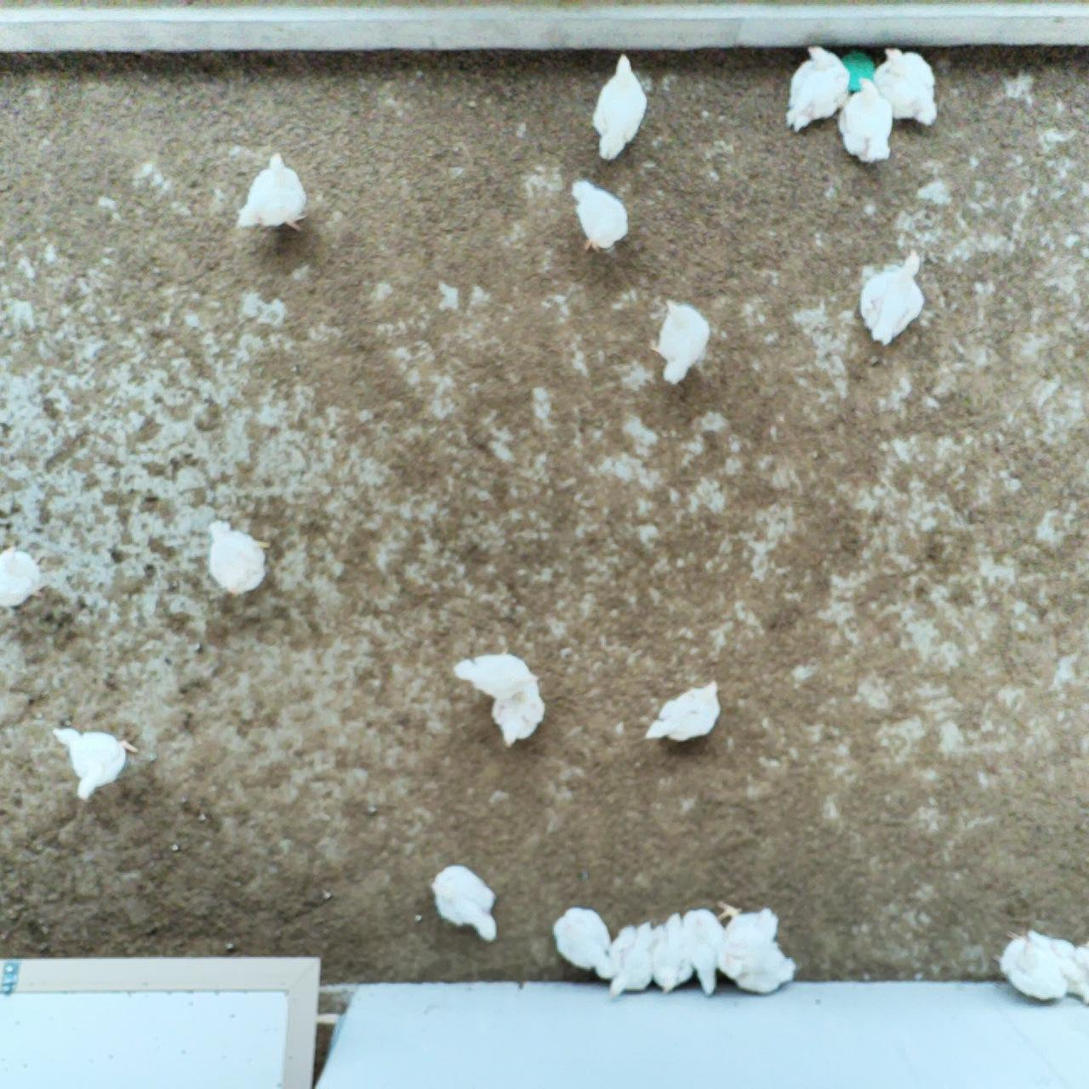chicken: (454, 647, 553, 750), (49, 723, 142, 806), (713, 905, 796, 996), (231, 147, 311, 238), (855, 249, 929, 346), (592, 52, 651, 164), (1000, 927, 1080, 1007), (202, 516, 278, 600), (869, 43, 940, 132), (428, 863, 502, 948), (784, 43, 850, 136), (641, 673, 725, 745), (646, 296, 710, 390), (835, 74, 896, 166), (566, 179, 633, 256), (553, 901, 614, 981), (679, 905, 730, 998), (604, 919, 657, 994), (651, 909, 696, 995), (0, 542, 46, 613), (1058, 934, 1089, 1006)
